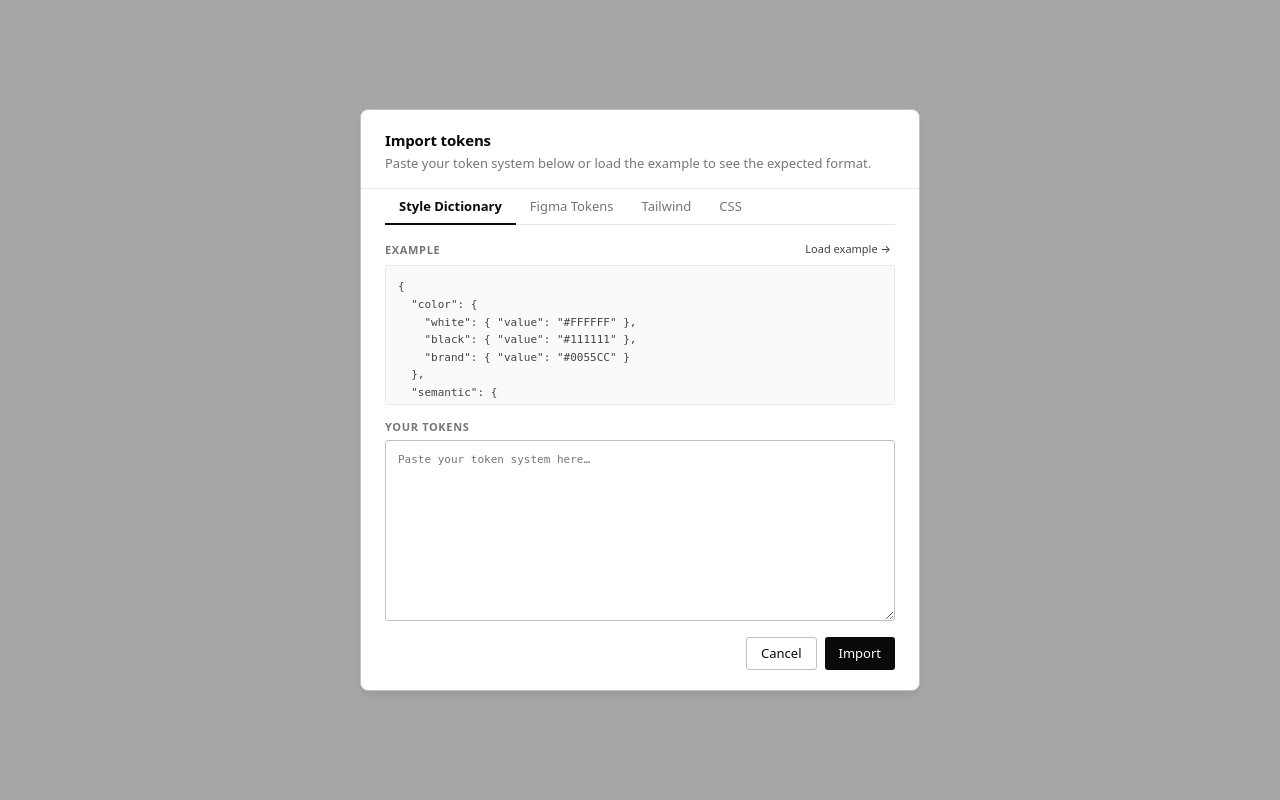
Test: ImportPanel › pasting invalid JSON shows parse errors without closing
The image size is (1280, 800).
Click the text box with test id "import-textarea" at [640, 530], box [385,440,895,621]
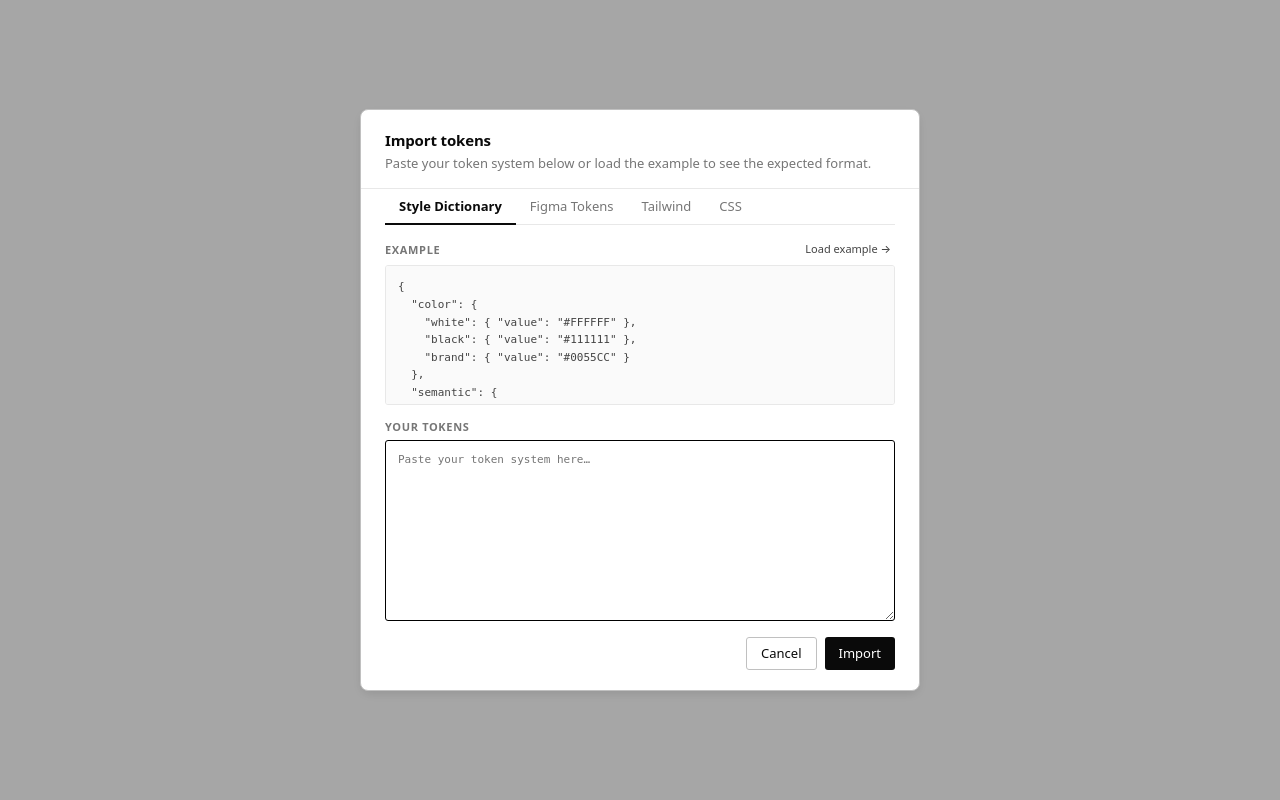
Type keys "{ this is not valid json }"
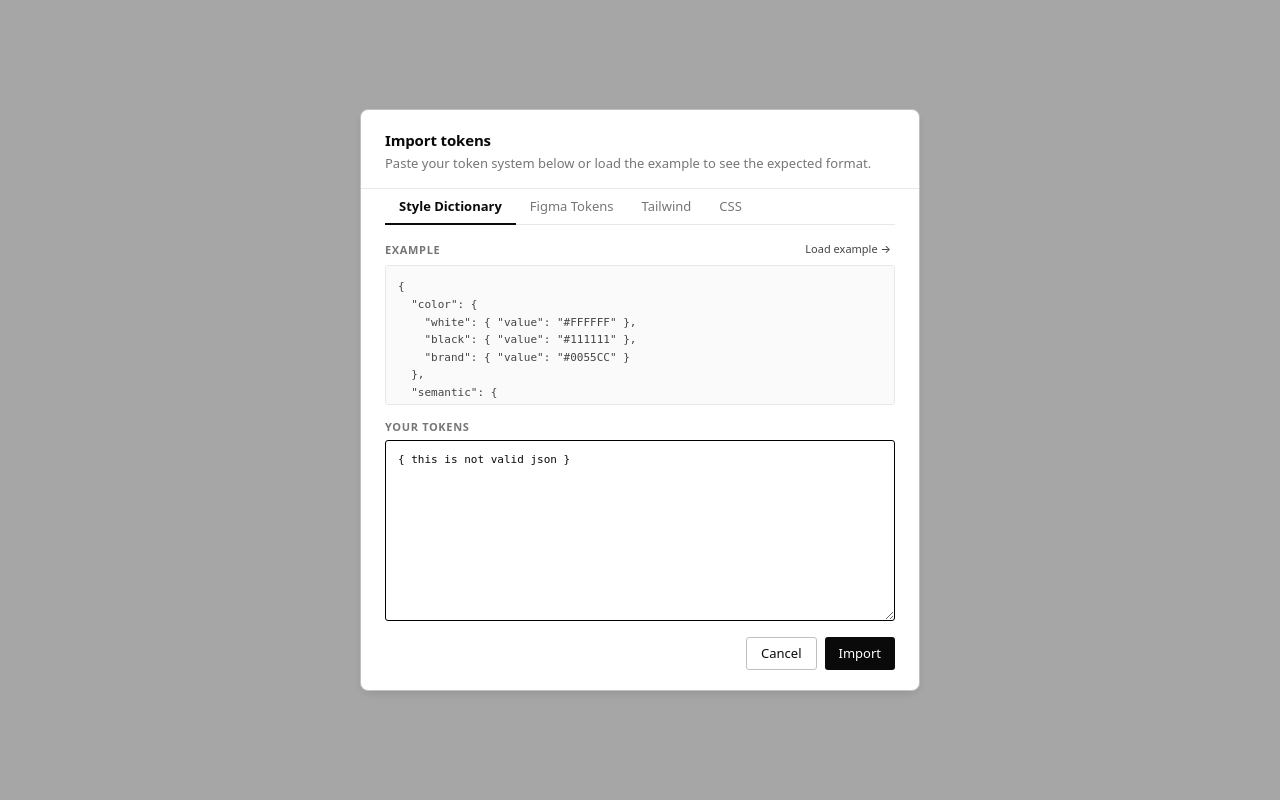
Click the button with test id "import-submit" at [860, 653], box [824,637,895,670]
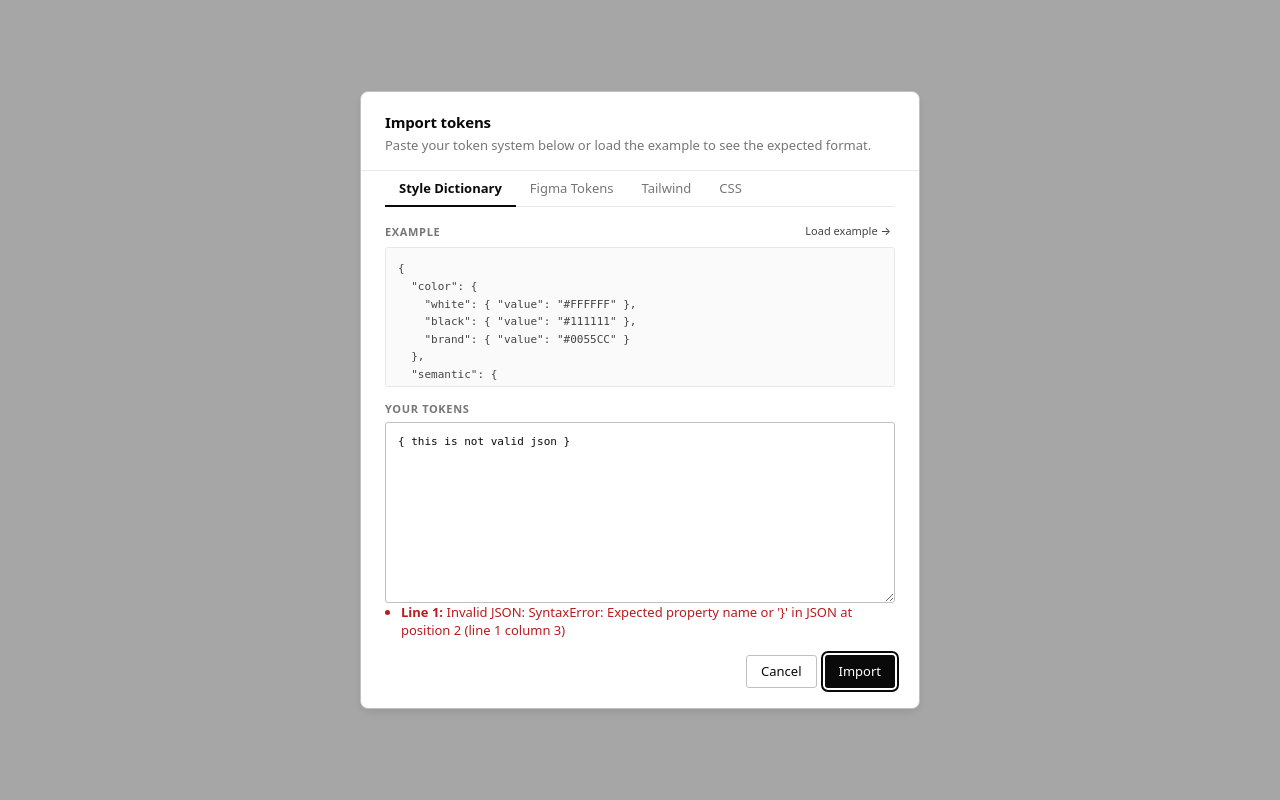
Check: the list with test id "parse-errors" is shown, box [385,603,895,639]
